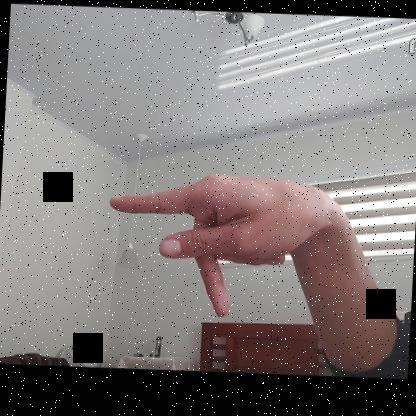P: (101, 165, 334, 328)
